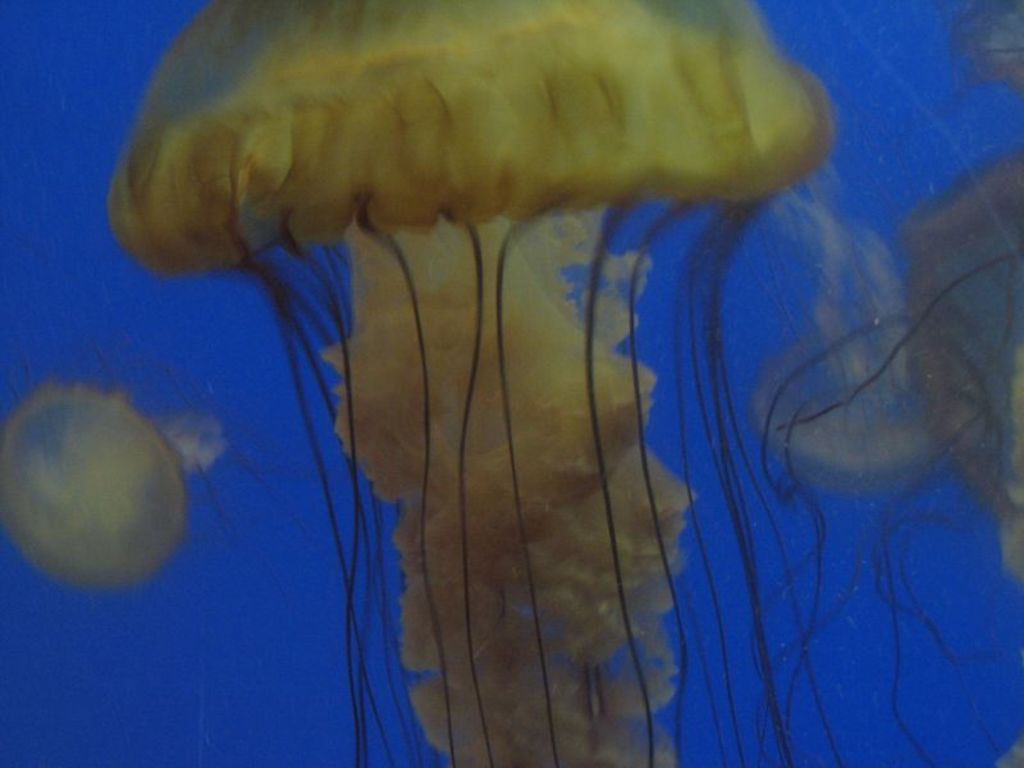Jellyfish: (58, 24, 988, 732), (743, 170, 1022, 766), (0, 362, 225, 587)
